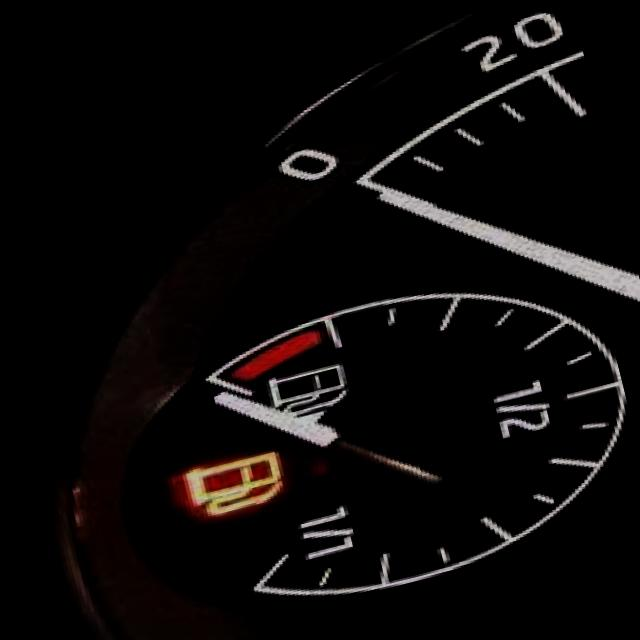kontrolka: (146, 438, 302, 536)
